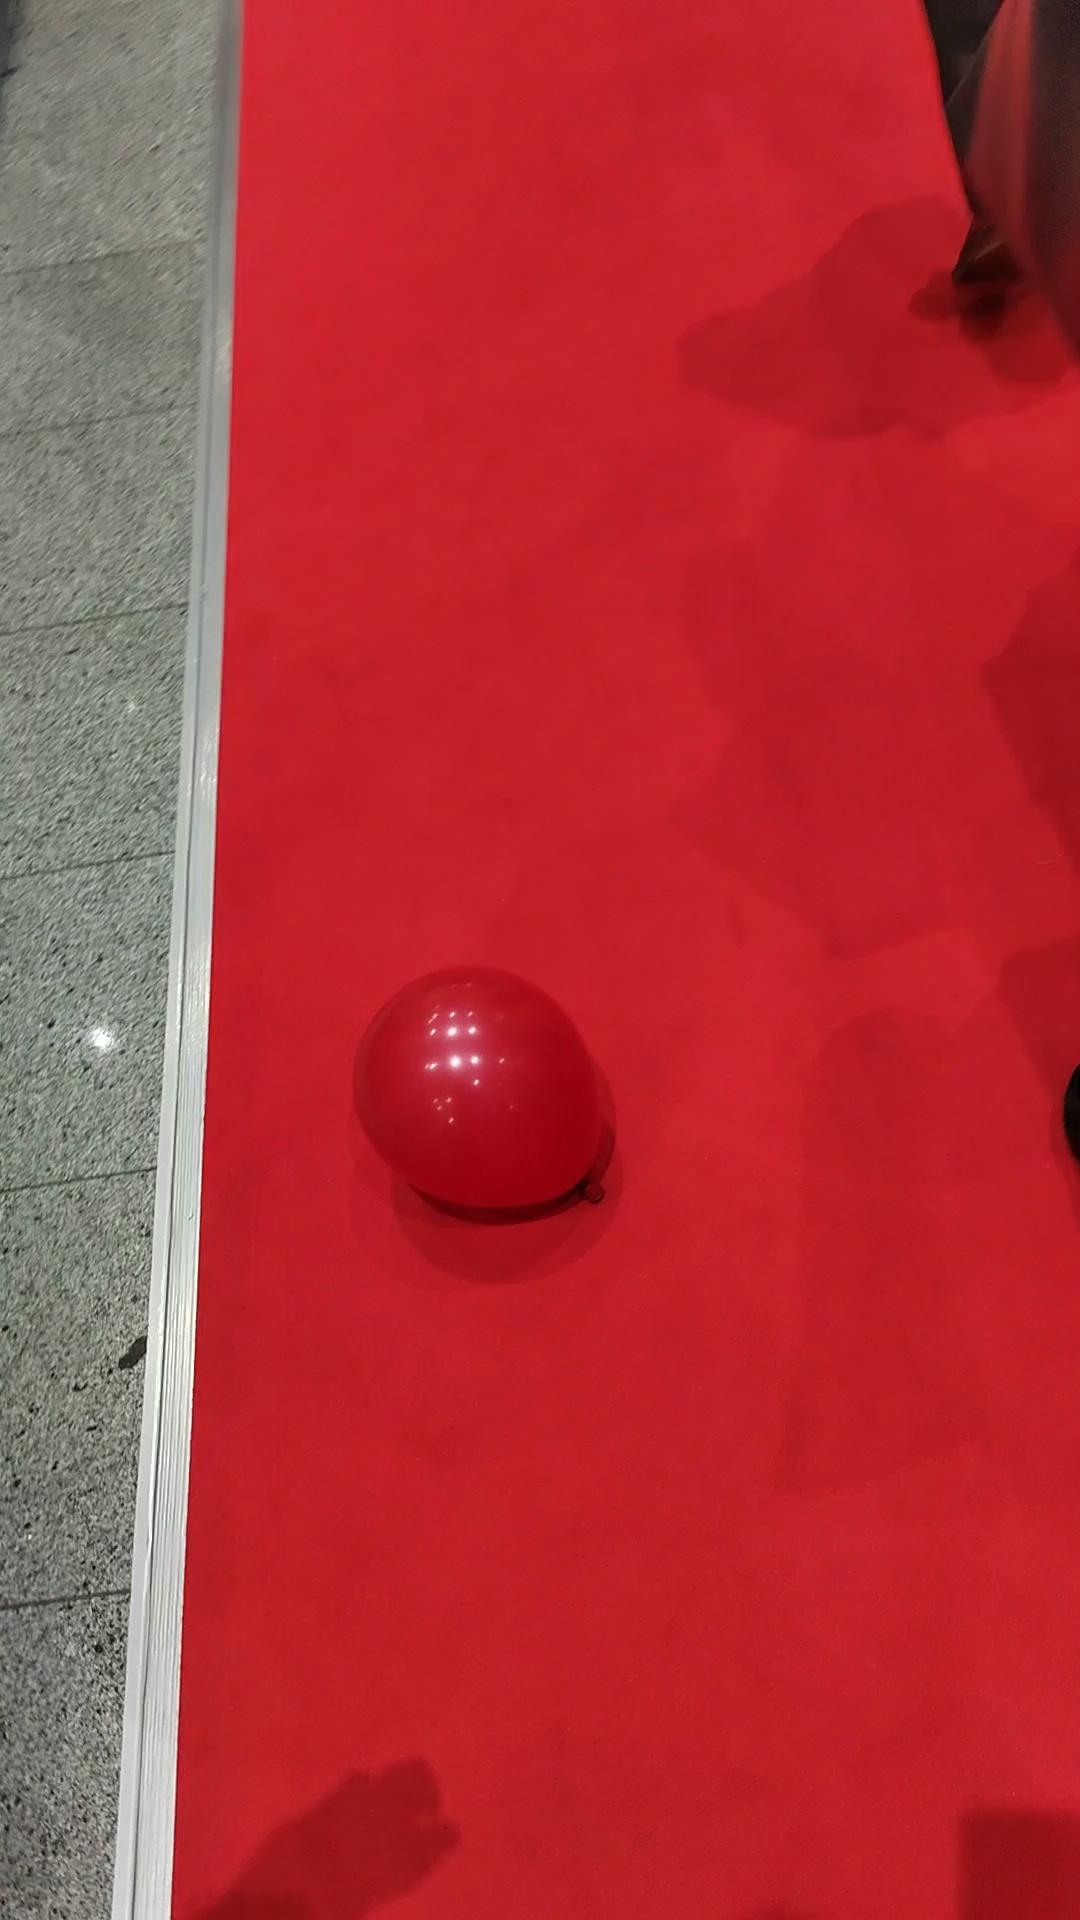red: (353, 967, 605, 1215)
